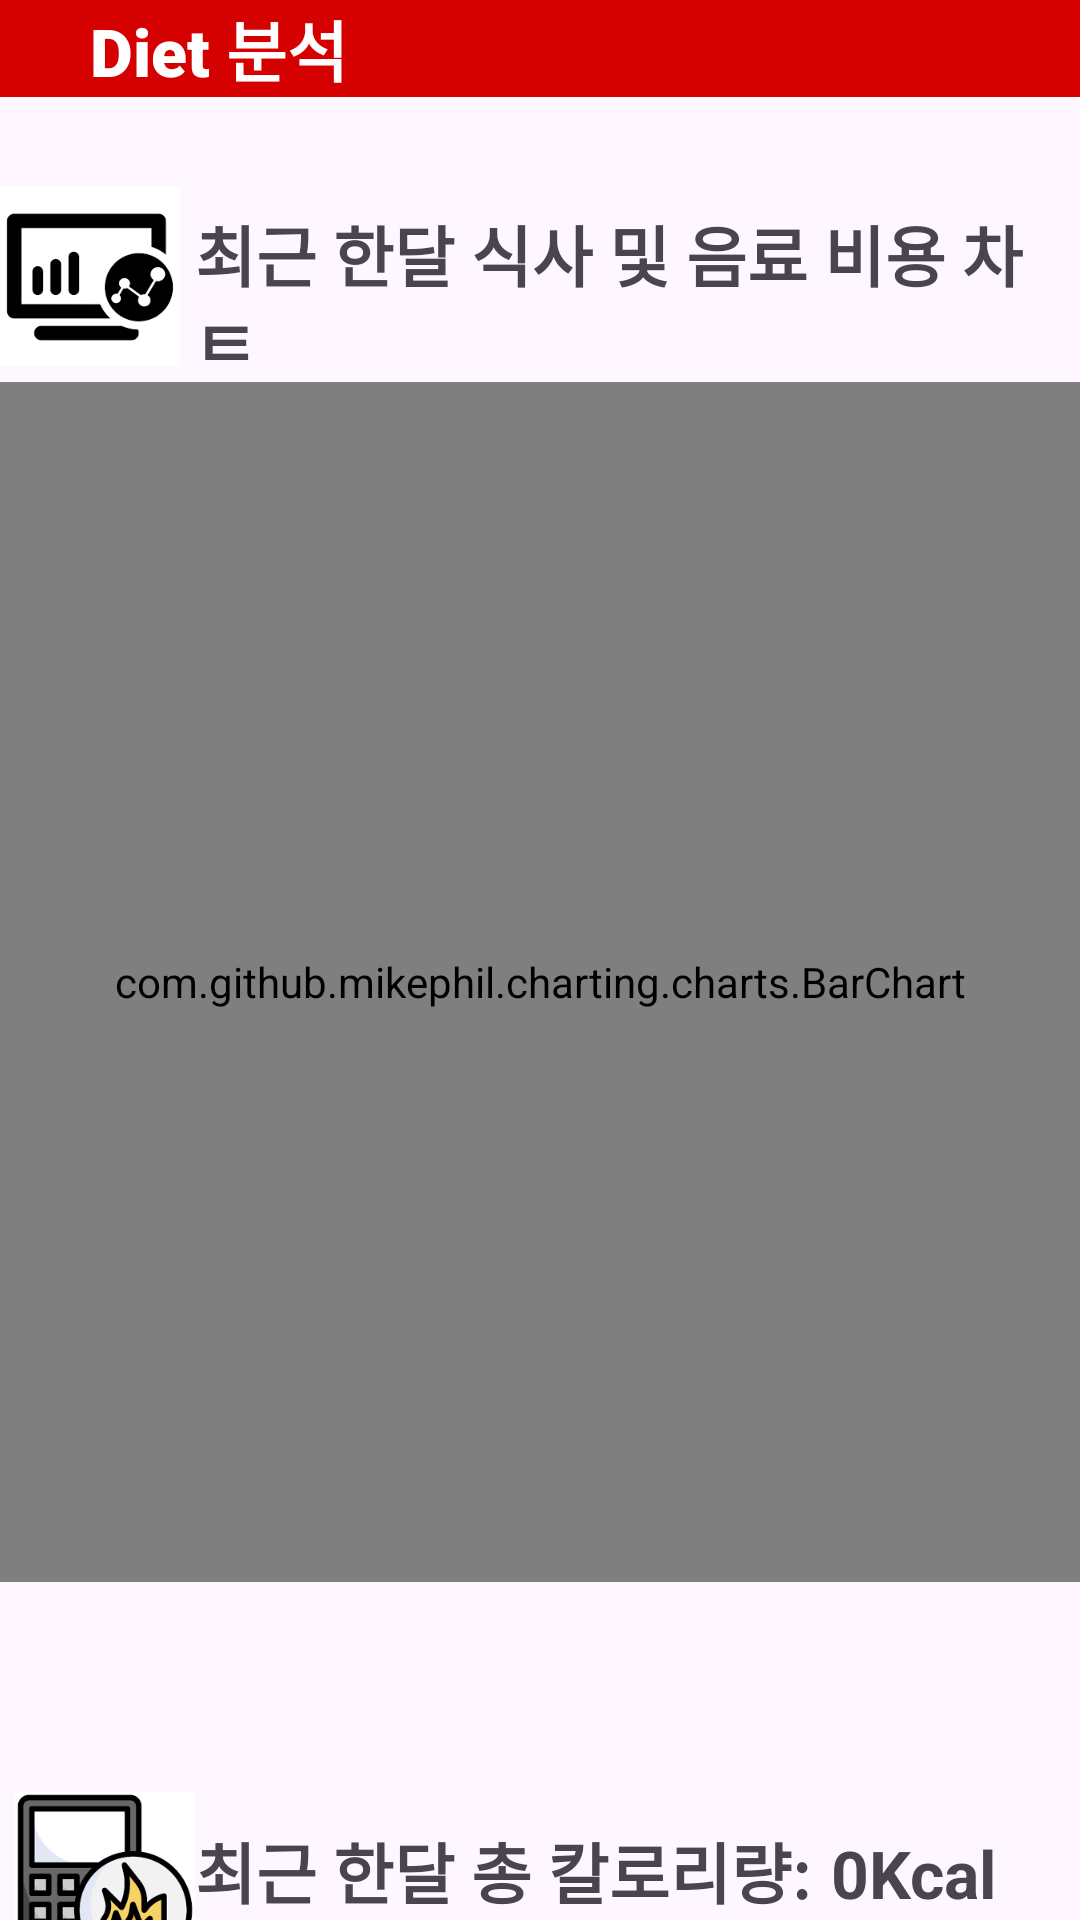

Screen size 1080px×1920px. Icon name, then its box in pixels as rect(x1, y1, x2, y2):
analysis: rect(6, 213, 173, 341)
